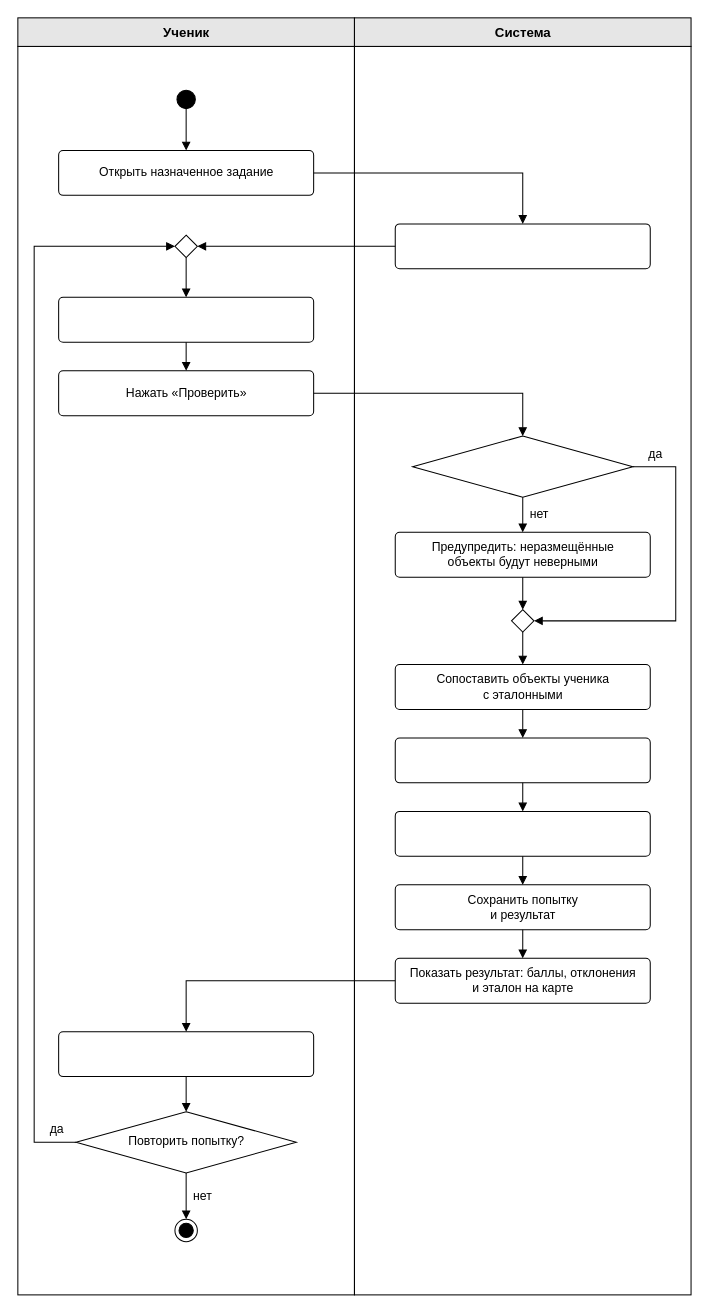
Image size: 709x1313. Some labels were removed from this diagram. The shapes that lost their labels are listed below. From the top down, each one's box as (x1, y1, x2, y2) in pixels, then its label:
(394, 223, 650, 269): Показать подложку и набор объектов (без координат эталона)
(58, 296, 314, 342): Расставить объекты схемы в редакторе
(412, 435, 633, 497): Все объекты размещены?
(394, 737, 650, 783): Для каждого объекта вычислить d; верно, если d ≤ ε
(394, 810, 650, 856): Вычислить K и Score = K / N × 100
(58, 1031, 314, 1077): Просмотреть результат
